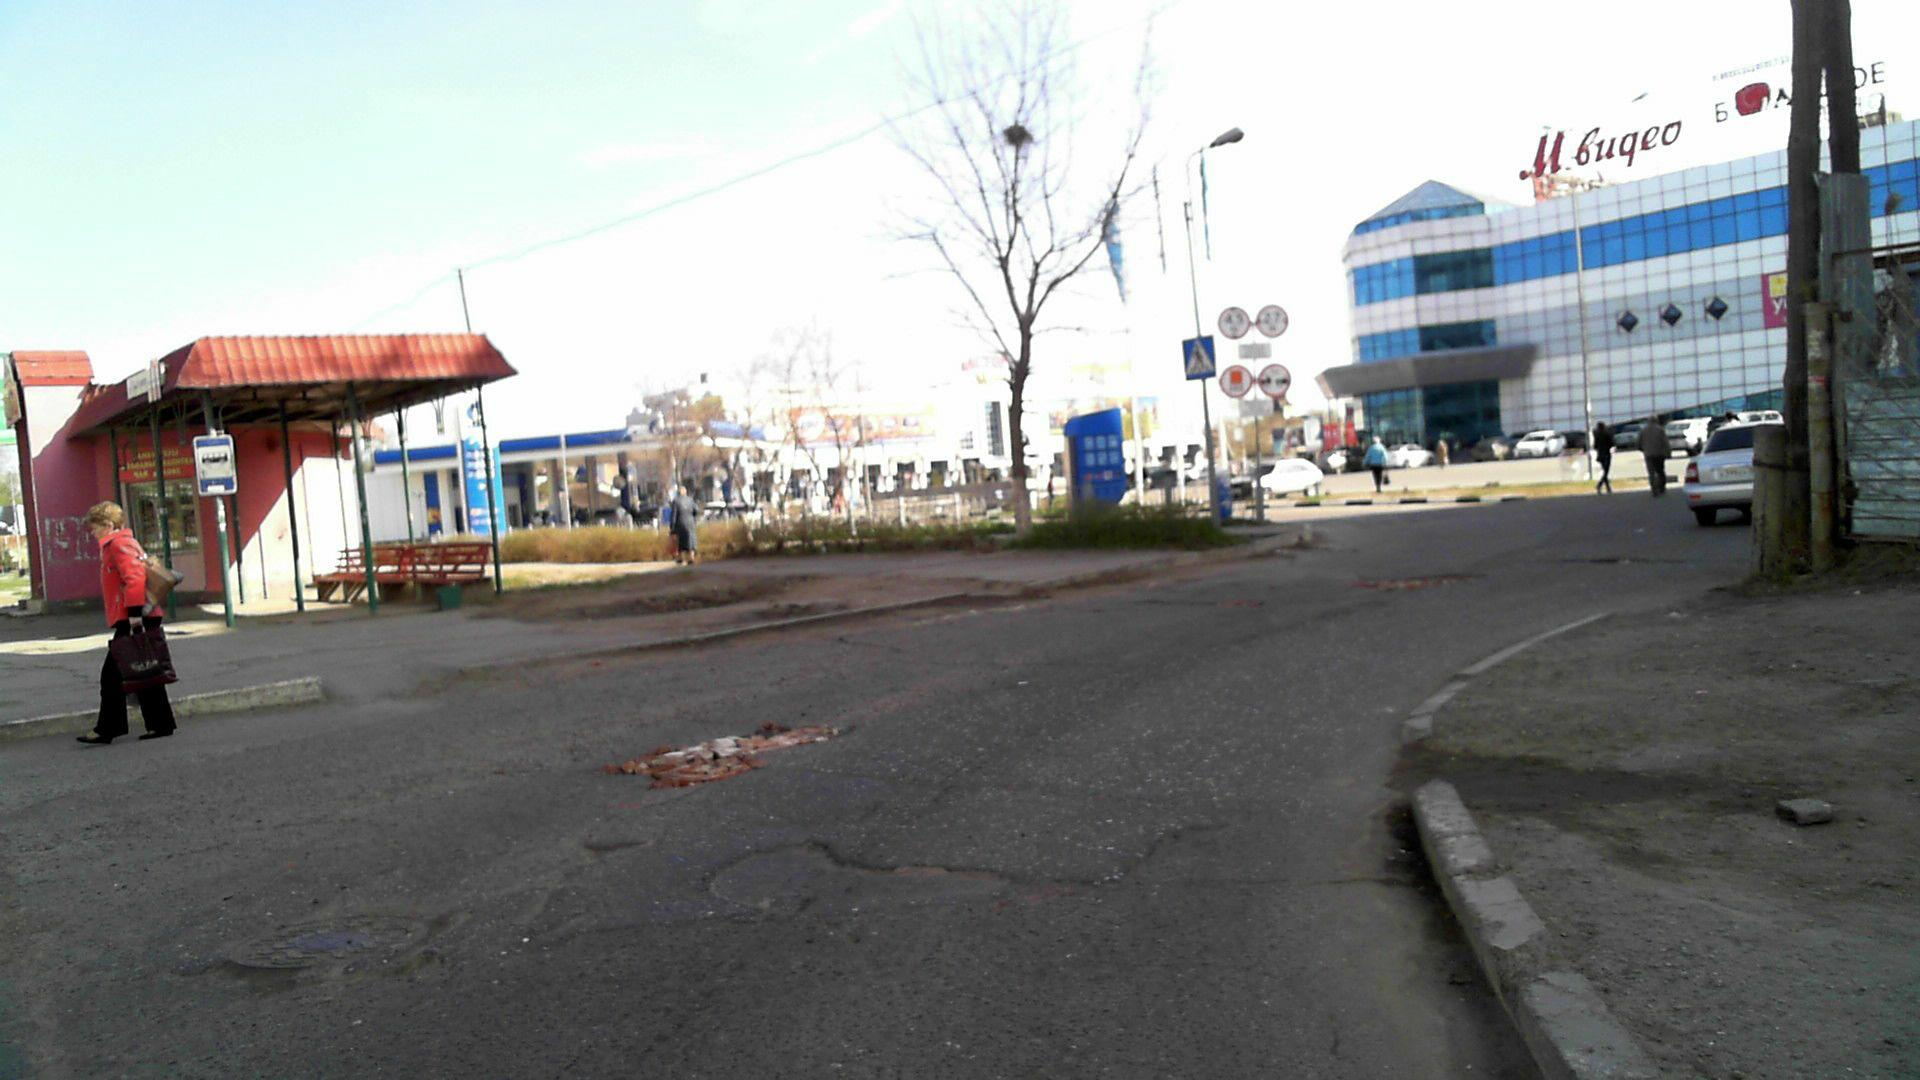3_13: (1218, 307, 1250, 339)
3_14: (1257, 303, 1290, 338)
3_16: (1259, 364, 1290, 400)
3_32: (1220, 365, 1253, 400)
5_16: (191, 434, 236, 495)
5_19_2: (1183, 335, 1216, 380)
